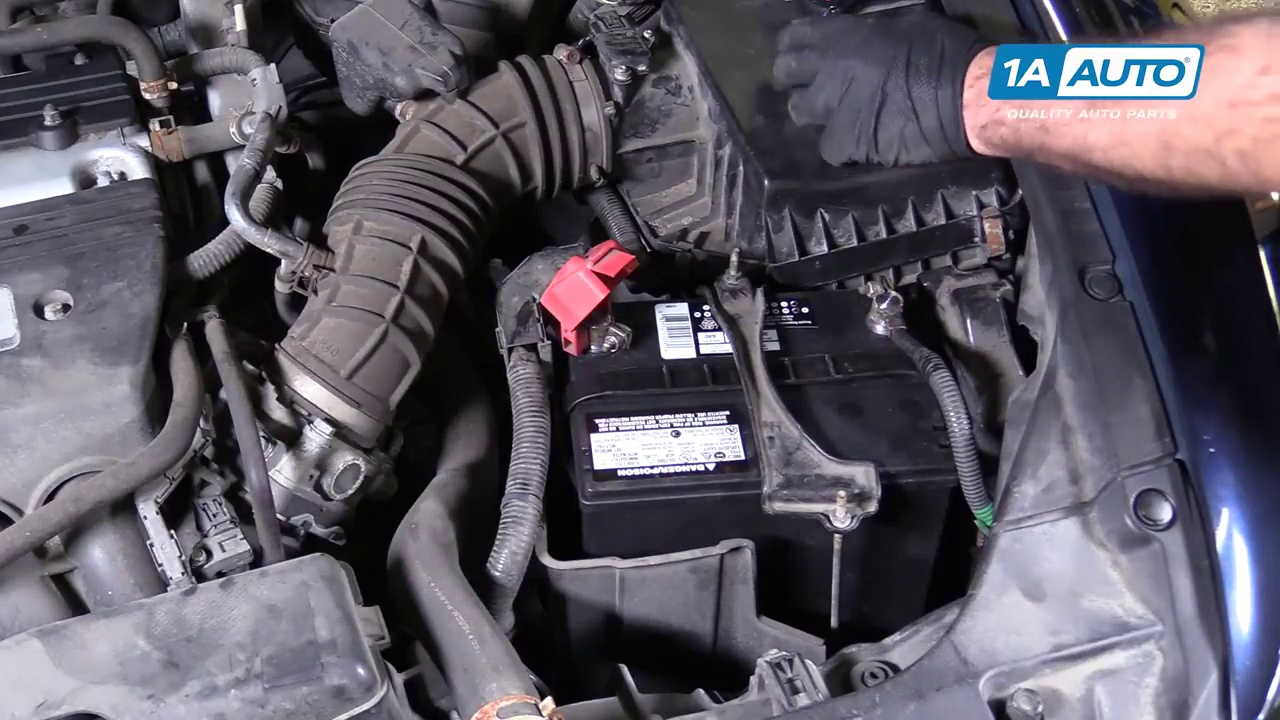battery: (544, 246, 969, 486)
neg_connected: (839, 248, 959, 374)
pos_connected: (517, 224, 661, 366)
